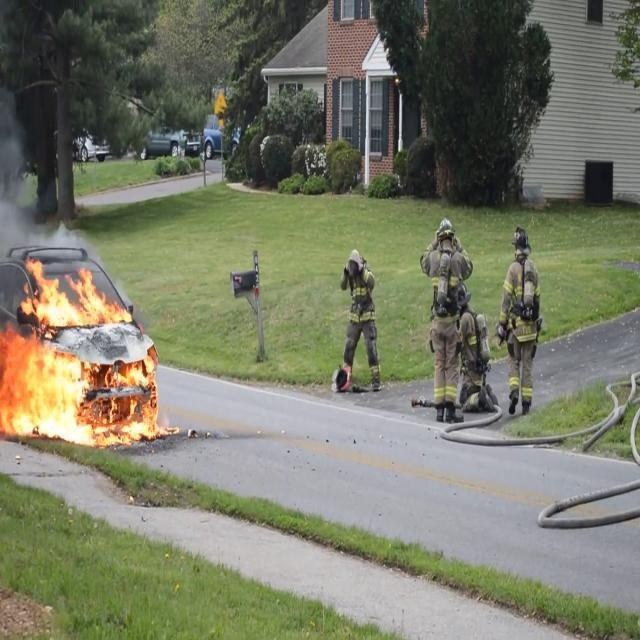Fire: (0, 257, 163, 448)
Smoke: (0, 1, 40, 289)
